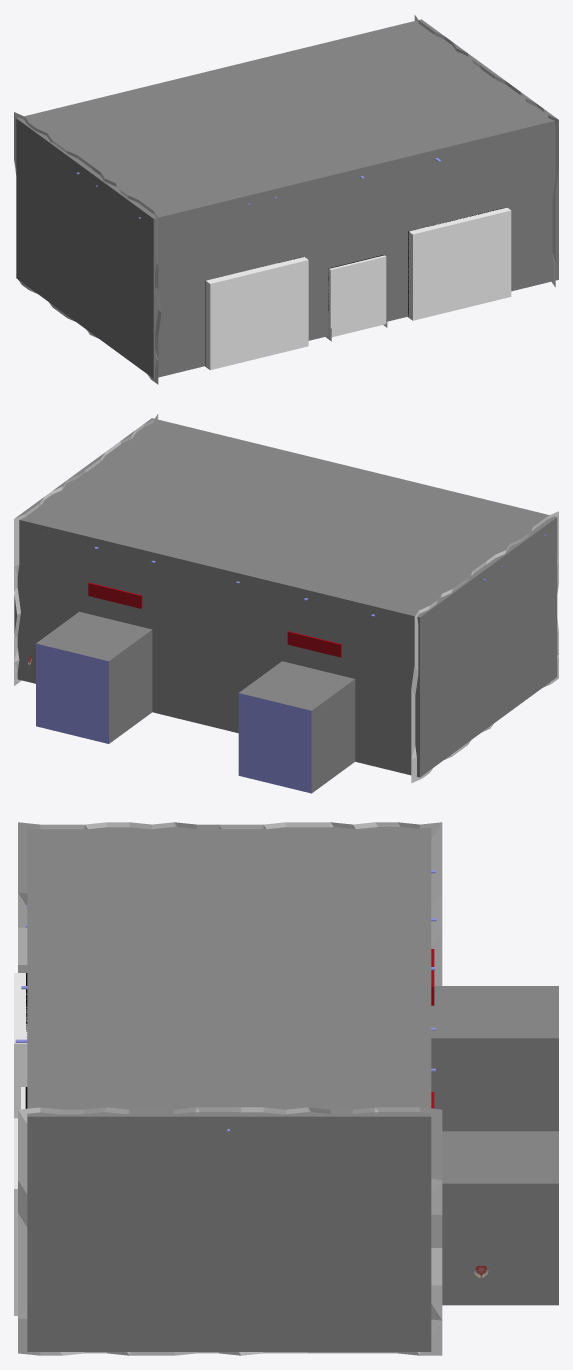
File: LobbyBTPFix.fbx
3 renders of one model, top to bottom at view 1: azimuth 30°, elevation 25°; view 2: azimuth 150°, elevation 25°; view 3: azimuth 270°, elevation 25°, orthographic. The views are drawn at different scales.
Parts seen in each view (by area): view 1: Cube, CTRL_Hole.001, CTRL_Hole.002, CTRL_Hole, Cube.111, Cube.010; view 2: Cube, Cube.111, Cube.010, Cube.015, Cube.013; view 3: Cube, Cube.010, Cube.111, CTRL_Hole.002, CTRL_Hole.001.
Part boxes in pixels (x1=…): Cube: x1=16, y1=19, x2=558, y2=378; CTRL_Hole.001: x1=408, y1=207, x2=511, y2=320; CTRL_Hole.002: x1=206, y1=257, x2=308, y2=370; CTRL_Hole: x1=328, y1=255, x2=386, y2=337; Cube.111: x1=14, y1=112, x2=161, y2=384; Cube.010: x1=414, y1=15, x2=558, y2=287; Cube: x1=14, y1=418, x2=557, y2=793; Cube.111: x1=411, y1=511, x2=558, y2=783; Cube.010: x1=14, y1=414, x2=158, y2=685; Cube.015: x1=287, y1=631, x2=341, y2=657; Cube.013: x1=88, y1=582, x2=142, y2=608; Cube: x1=27, y1=827, x2=558, y2=1351; Cube.010: x1=18, y1=1107, x2=442, y2=1355; Cube.111: x1=18, y1=822, x2=442, y2=985; CTRL_Hole.002: x1=14, y1=973, x2=27, y2=1118; CTRL_Hole.001: x1=14, y1=1118, x2=17, y2=1315.
Size of the model in its own units: 1335 by 519 by 1043.
